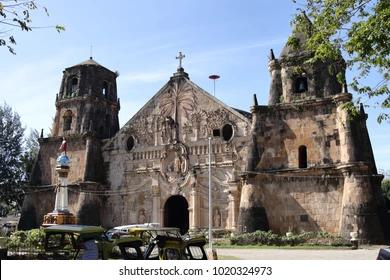Miagao Church: (20, 13, 382, 245)
